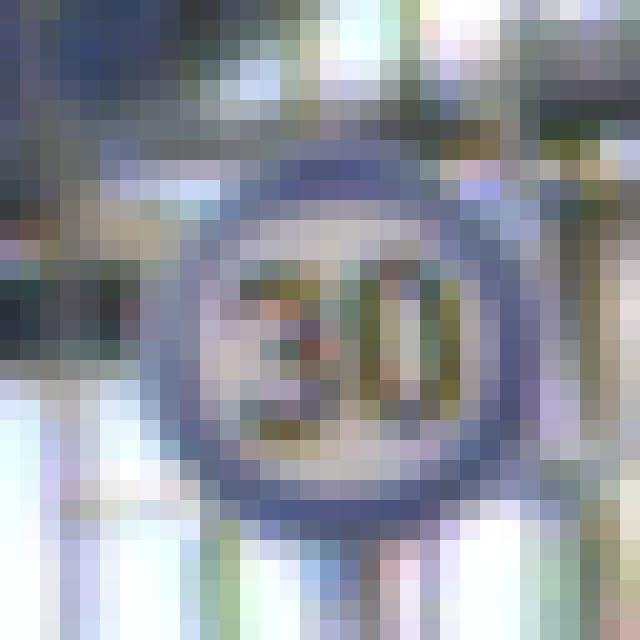SPEED LIMIT 30: (148, 157, 546, 544)
